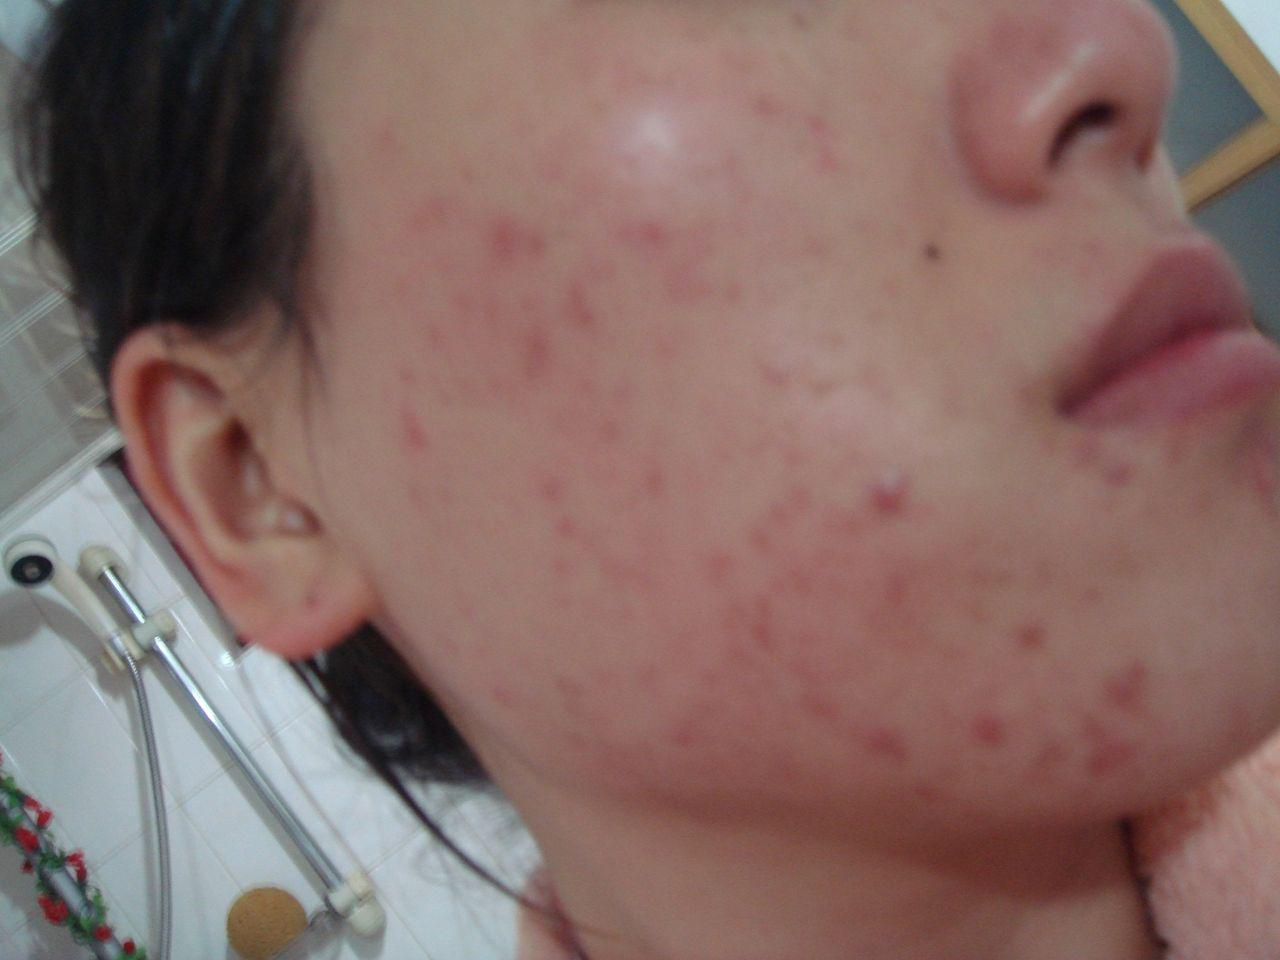fore: (859, 456, 922, 523), (616, 214, 679, 270), (558, 268, 618, 326), (486, 198, 547, 253), (512, 315, 571, 365), (898, 764, 952, 818), (1078, 742, 1140, 785), (1017, 731, 1067, 777), (878, 565, 915, 625), (976, 710, 1017, 764), (796, 673, 844, 720), (733, 599, 774, 651), (1112, 649, 1153, 699), (389, 396, 432, 443), (742, 504, 781, 554), (1073, 697, 1119, 733), (1015, 612, 1054, 647), (1095, 448, 1132, 484), (870, 723, 904, 759)
